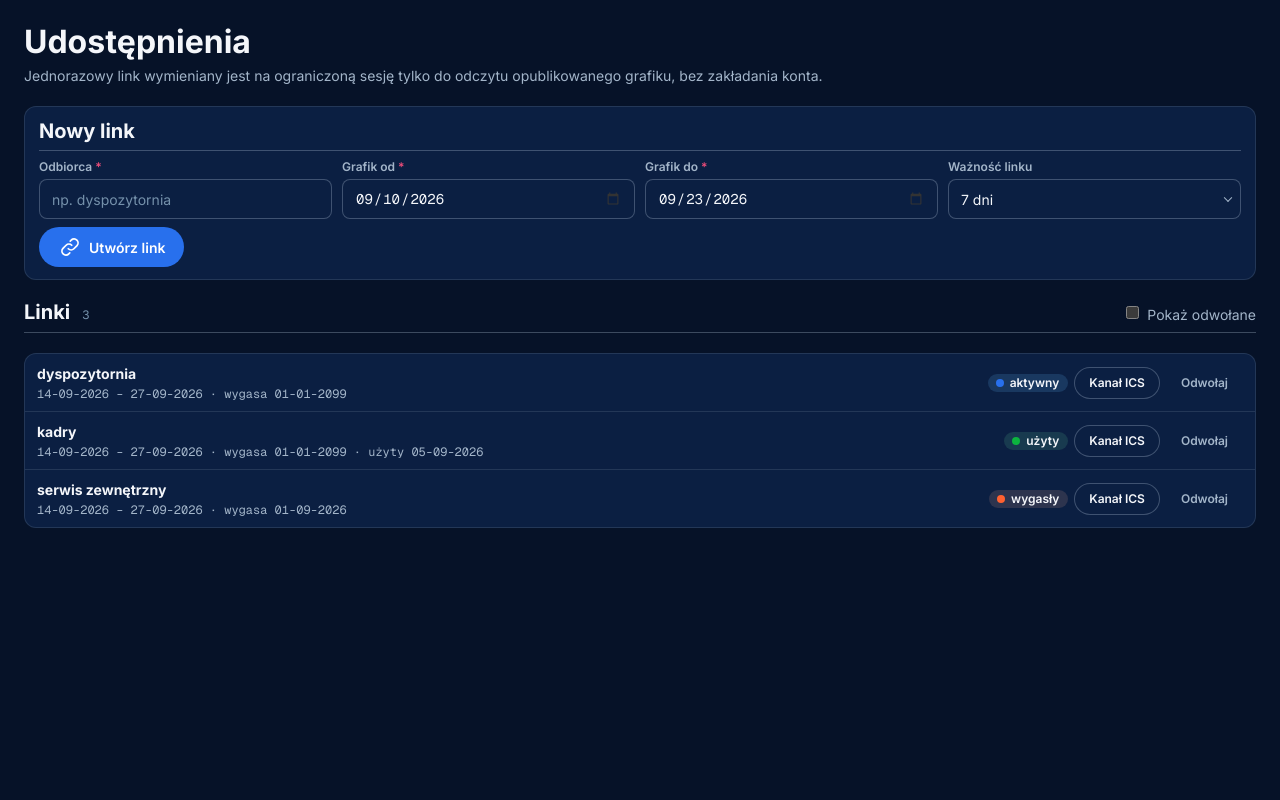
Test: ShareLinksPanel list › states each link's status and hides revoked ones until asked
Expected: the text "aktywny" is shown, [988,374,1068,392]
Expected: the text "14-09-2026 – 27-09-2026 · wygasa 01-01-2099" is shown, [37,386,347,402]
Click the checkbox labelled "Pokaż odwołane". click: click(1133, 312)
box: [1126,306,1139,319]
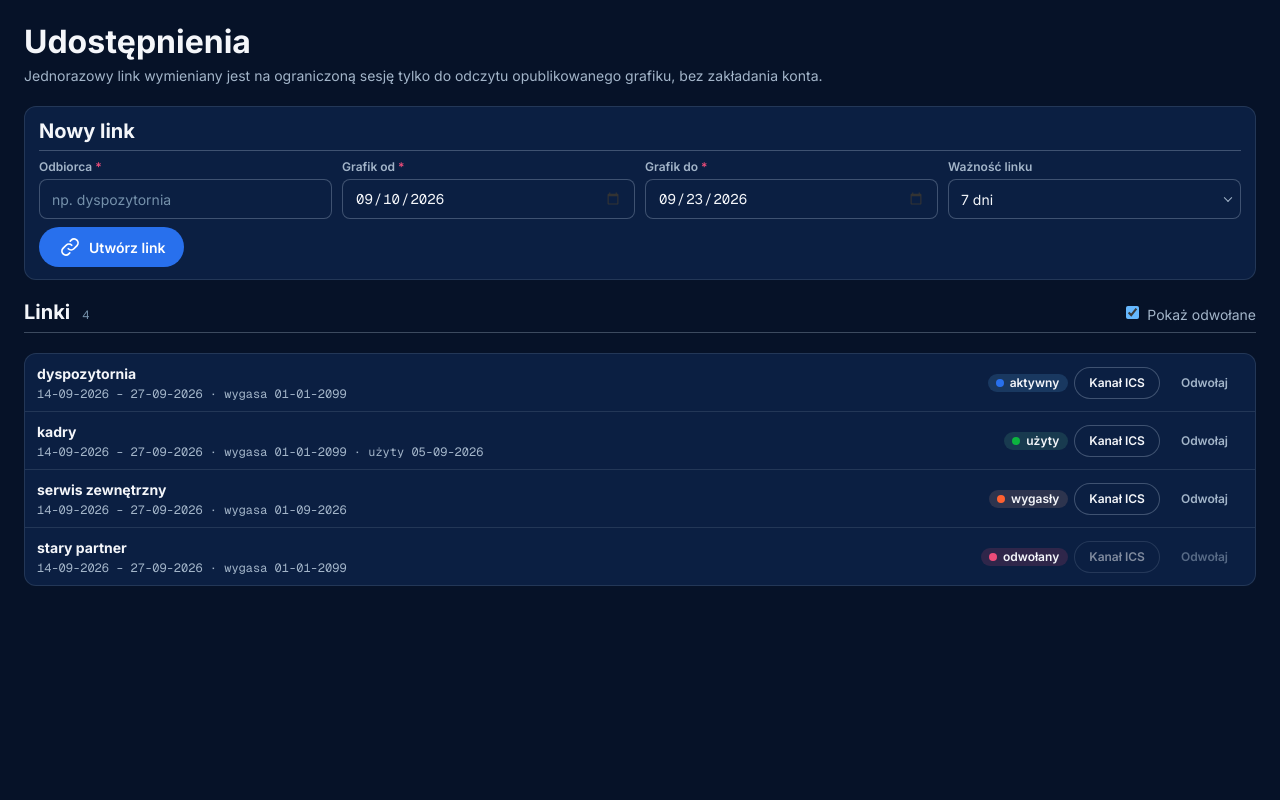
Expected: the text "4" is shown, [82,307,89,323]
Expected: the text "odwołany" is shown, [981,548,1068,566]
Expected: the button "Kanał ICS" next to "odwołany" is disabled, [1074,540,1160,572]
